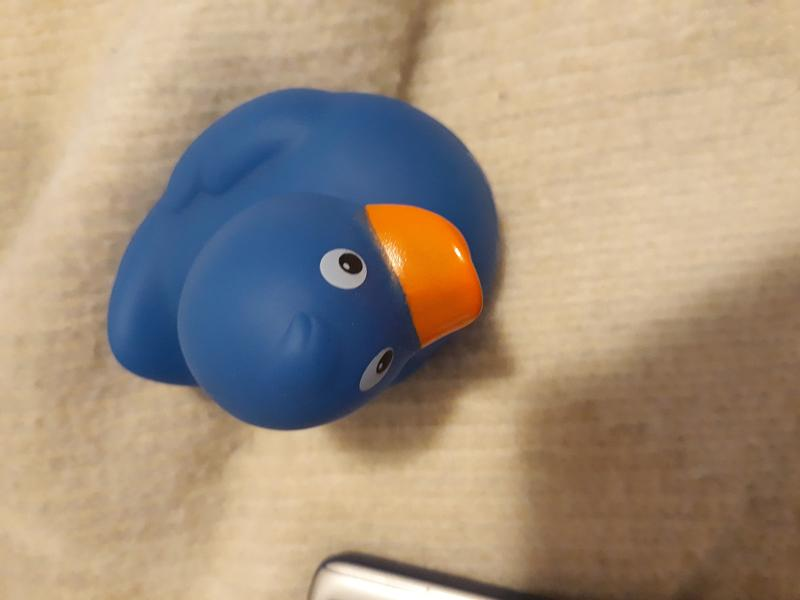plava_patkica: (72, 67, 521, 437)
